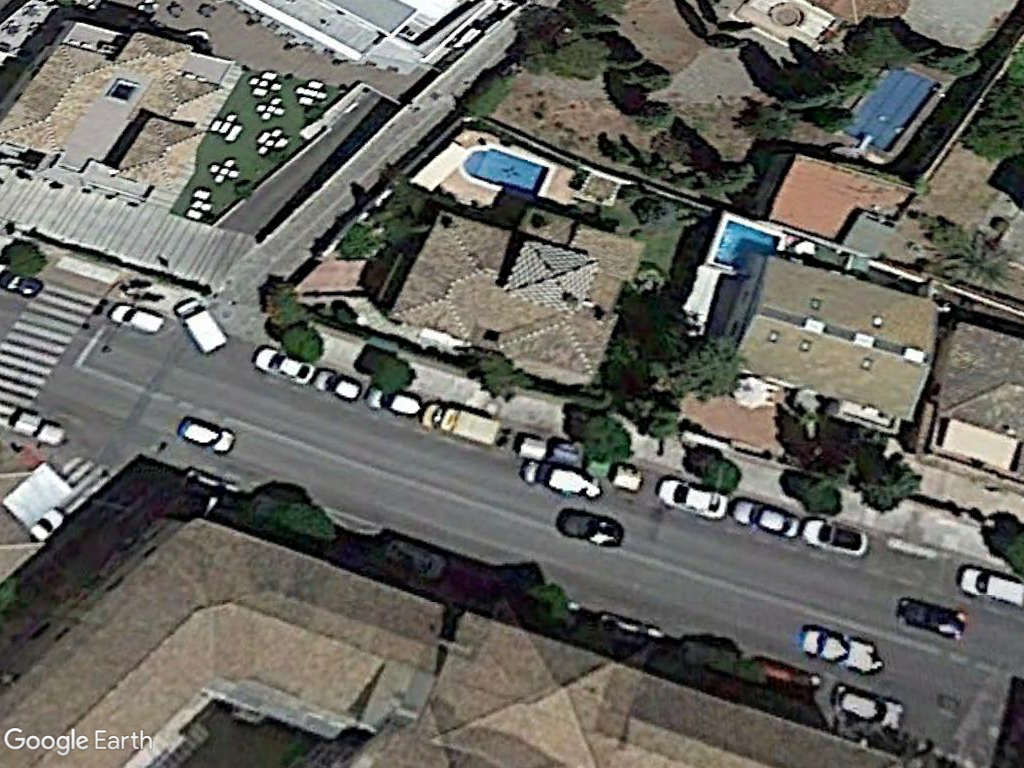car: (653, 471, 730, 521), (555, 501, 627, 551), (803, 513, 871, 561), (734, 493, 800, 540), (251, 343, 316, 386), (177, 413, 239, 457), (313, 362, 367, 406), (367, 381, 426, 421), (0, 263, 45, 301)
other: (798, 617, 888, 677), (896, 592, 972, 644), (9, 406, 70, 448)
truck: (415, 394, 509, 452)
van: (169, 294, 229, 356), (957, 558, 1024, 609), (105, 297, 165, 338)
